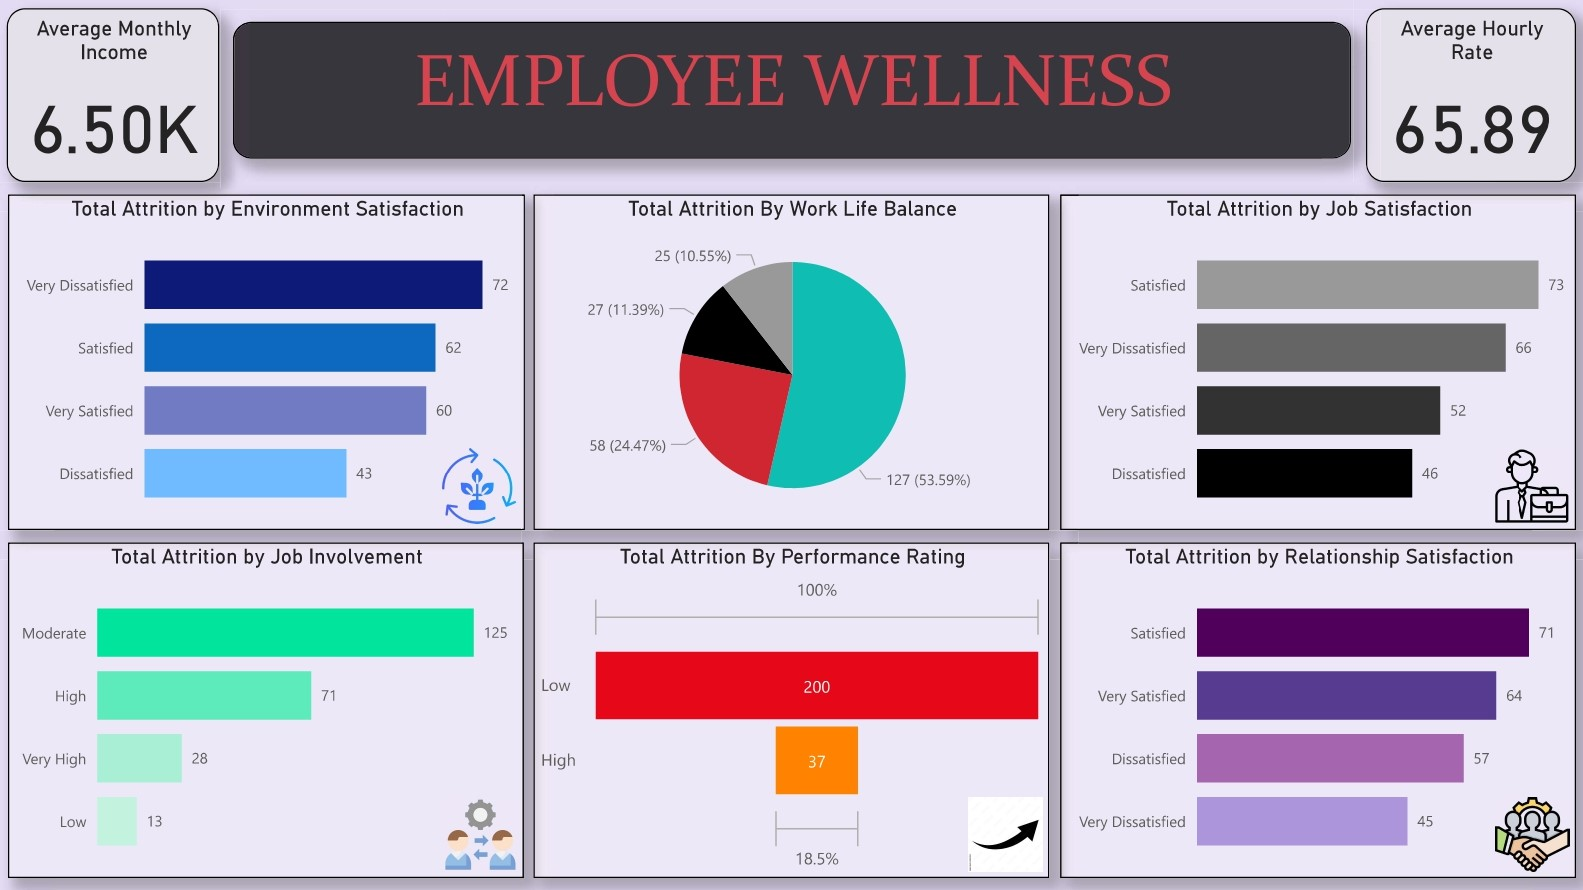

What the dashboard file says about the page in this screenshot:
{"tool":"powerbi","page":{"name":"Employee Wellness","canvas":[1280,720],"ordinal":4},"visuals":[{"type":"textbox","box":[190,18.5,900.3,110.1],"z":0},{"type":"card","title":"Average Monthly Income","fields":{"Values":["Avg(HR-Employee-Attrition.MonthlyIncome)"]},"box":[8.4,8.4,170.3,139.8],"z":1000},{"type":"card","title":"Average Hourly Rate","fields":{"Values":["Avg(HR-Employee-Attrition.HourlyRate)"]},"box":[1101.5,8.4,169.2,139.8],"z":2000},{"type":"barChart","title":"Total Attrition by Environment Satisfaction","fields":{"Y":["Sum(HR-Employee-Attrition.Attrition in Number)"],"Category":["HR-Employee-Attrition.EnvironmentSatisfaction (groups)"]},"box":[9.5,157.7,415.2,270.1],"z":3000},{"type":"barChart","title":"Total Attrition by Job Satisfaction","fields":{"Y":["Sum(HR-Employee-Attrition.Attrition in Number)"],"Category":["HR-Employee-Attrition.JobSatisfaction (groups)"]},"box":[855.6,157.7,415.2,270.1],"z":4000},{"type":"pieChart","title":"Total Attrition By Work Life Balance","fields":{"Y":["Sum(HR-Employee-Attrition.Attrition in Number)"],"Category":["HR-Employee-Attrition.WorkLifeBalance (groups)"]},"box":[432,157.7,415.2,270.1],"z":5000},{"type":"barChart","title":"Total Attrition by Job Involvement","fields":{"Category":["HR-Employee-Attrition.JobInvolvement (groups)"],"Y":["Sum(HR-Employee-Attrition.Attrition in Number)"]},"box":[9.5,438.3,414.1,270.1],"z":6000},{"type":"barChart","title":"Total Attrition by Distance","fields":{"Y":["Sum(HR-Employee-Attrition.Attrition in Number)"],"Category":["HR-Employee-Attrition.RelationshipSatisfaction (groups)"]},"box":[855.6,438.3,415.2,270.1],"z":7000},{"type":"funnel","title":"Total Attrition By Age","fields":{"Y":["Sum(HR-Employee-Attrition.Attrition in Number)"],"Category":["HR-Employee-Attrition.PerformanceRating (groups)"]},"box":[432,438.3,415.2,270.1],"z":8000},{"type":"image","box":[776.8,638,70.4,70.4],"z":8001},{"type":"image","box":[1200.4,638,70.4,70.4],"z":8002},{"type":"image","box":[353.2,638,70.4,70.4],"z":8003},{"type":"image","box":[353.2,357.4,70.4,70.4],"z":8004},{"type":"image","box":[1200.4,357.4,70.4,70.4],"z":8005}]}

Visuals, with their boxes in screenshot pixels (x1, y1, x2, y2), scaled from the page's 1280x720 canvas onto the 1583x890 screenshot:
textbox: crop(235, 23, 1348, 159)
"Average Monthly Income" card: crop(10, 10, 221, 183)
"Average Hourly Rate" card: crop(1362, 10, 1571, 183)
"Total Attrition by Environment Satisfaction" barChart: crop(12, 195, 525, 529)
"Total Attrition by Job Satisfaction" barChart: crop(1058, 195, 1572, 529)
"Total Attrition By Work Life Balance" pieChart: crop(534, 195, 1048, 529)
"Total Attrition by Job Involvement" barChart: crop(12, 542, 524, 876)
"Total Attrition by Distance" barChart: crop(1058, 542, 1572, 876)
"Total Attrition By Age" funnel: crop(534, 542, 1048, 876)
image: crop(961, 789, 1048, 876)
image: crop(1485, 789, 1572, 876)
image: crop(437, 789, 524, 876)
image: crop(437, 442, 524, 529)
image: crop(1485, 442, 1572, 529)
